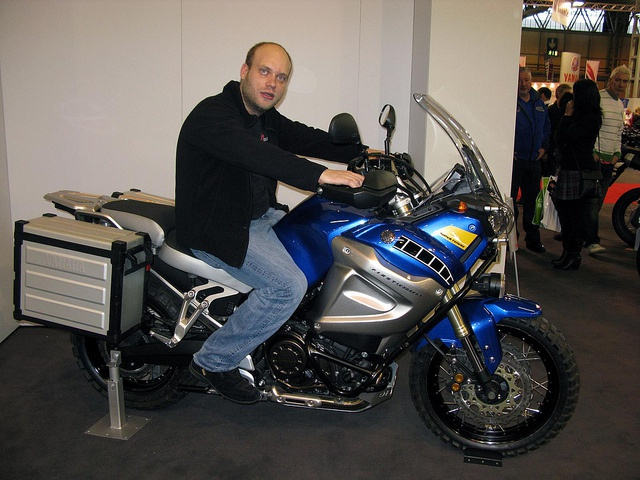non-vehicle: (13, 95, 578, 462), (612, 187, 640, 244)
